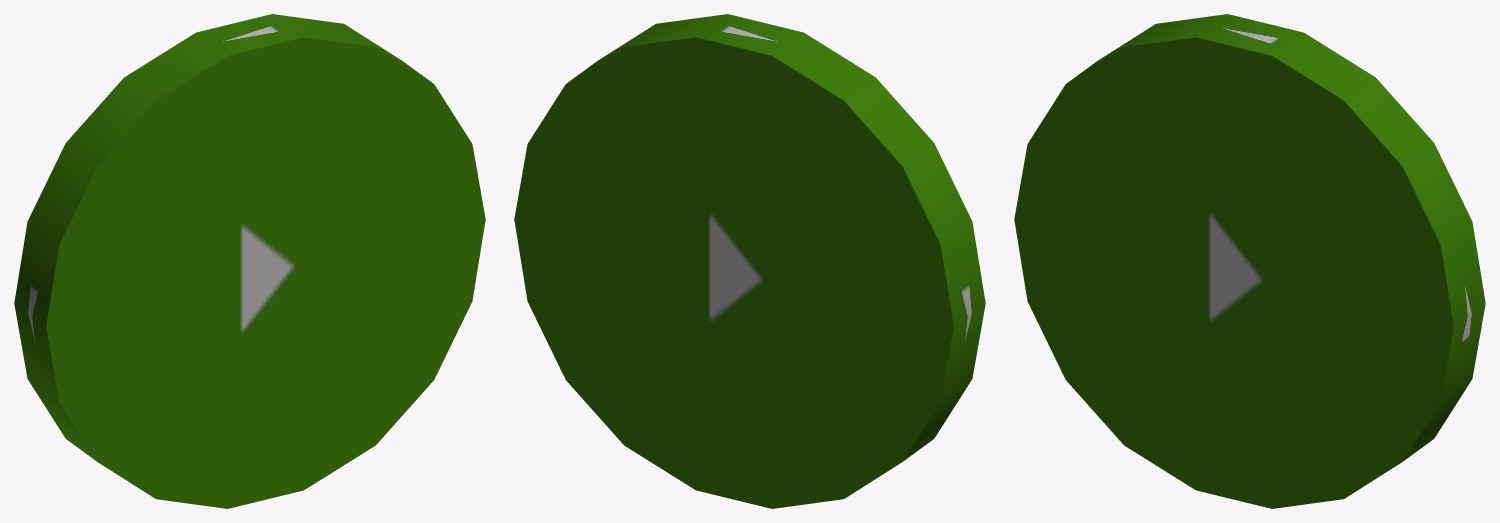
The model's file is btn-play.glb.
3 renders of one model, left to right at view 1: azimuth 30°, elevation 25°; view 2: azimuth 150°, elevation 25°; view 3: azimuth 330°, elevation 25°, orthographic.
Visible parts, largest first — view 1: Cylinder002; view 2: Cylinder002; view 3: Cylinder002.
Part boxes in pixels (box(x1,y1,x2,y2)): Cylinder002: box(14, 14, 485, 508); Cylinder002: box(514, 14, 985, 508); Cylinder002: box(1014, 14, 1485, 508).
Bounding box in the file's own units: 0.1763 × 0.1736 × 0.0221.
2 materials, 2 textured.
